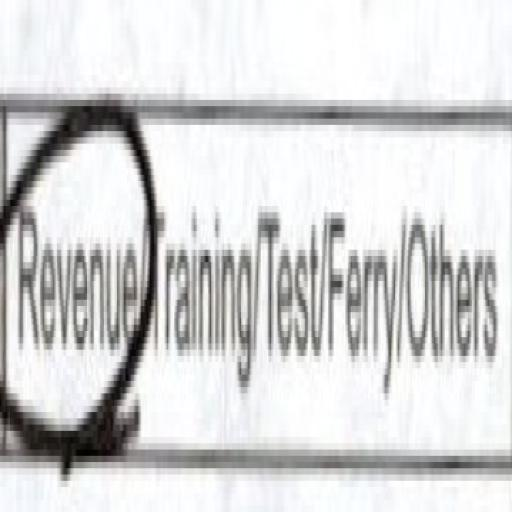check: (0, 43, 144, 512)
